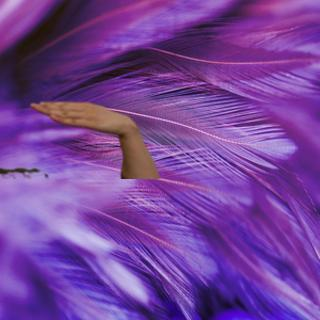WAIT: (26, 93, 136, 136)
